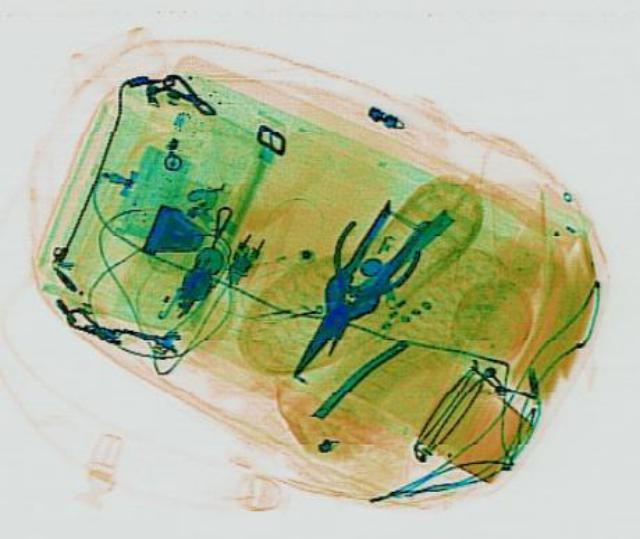Pliers: (276, 216, 428, 367)
